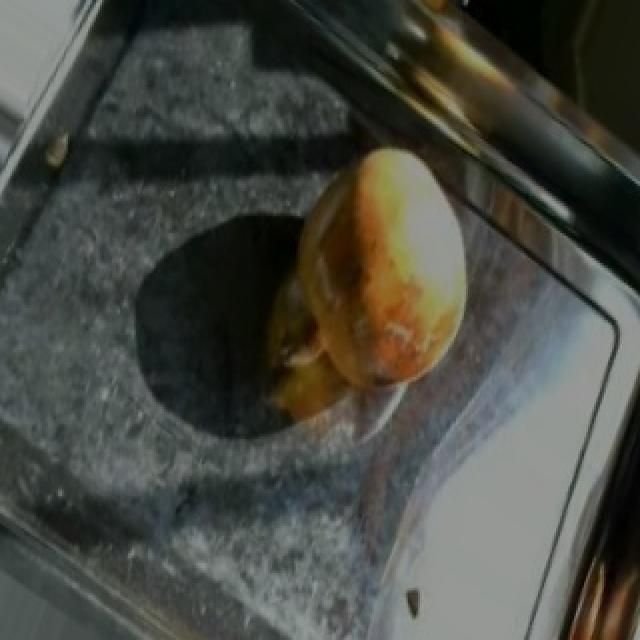fruit: (264, 114, 510, 409)
